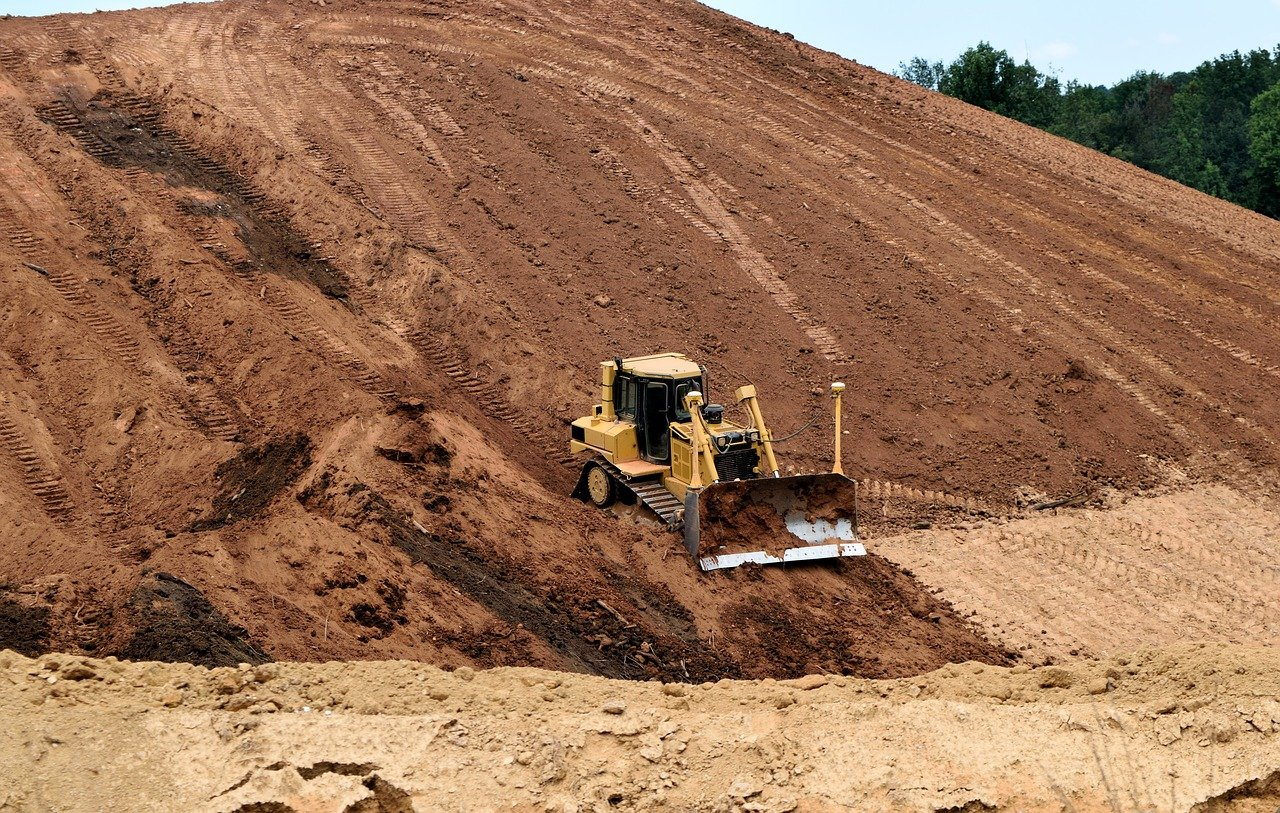bulldozer: (566, 334, 873, 570)
